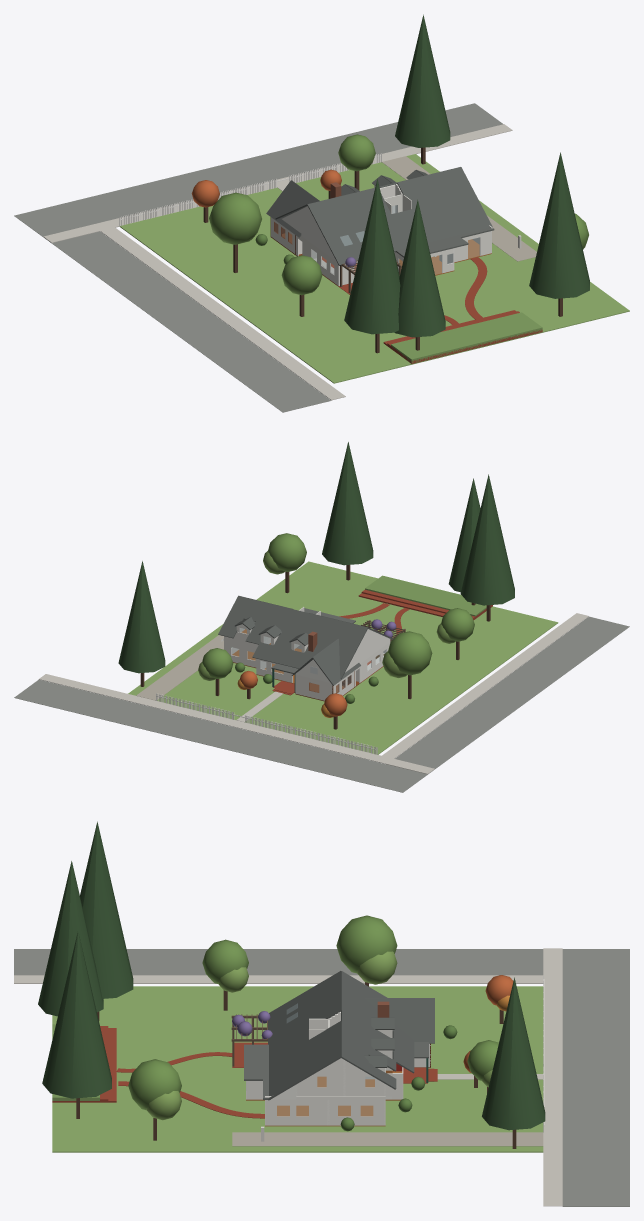
The model's file is 604-tennyson-ave.glb.
3 renders of one model, top to bottom at view 1: azimuth 30°, elevation 25°; view 2: azimuth 150°, elevation 25°; view 3: azimuth 270°, elevation 25°, orthographic. The views are drawn at different scales.
Visible parts, largest first — view 1: Lot, Garden, Roof, Webster St, Tennyson Ave, Sidewalk (×2), Terrace (×2), Ground floor, Driveway; view 2: Lot, Garden, Tennyson Ave, Roof, Webster St, Sidewalk (×2), Ground floor, Terrace, Driveway; view 3: Lot, Garden, Tennyson Ave, Roof, Webster St, Sidewalk (×2), Driveway, Ground floor, Upstairs, Terrace.
Boxes of the visible parts, x1,y1,x2,y2 form: Lot: (119,154,629,383); Garden: (119,14,589,337); Roof: (266,167,494,265); Webster St: (44,231,331,412); Tennyson Ave: (14,103,503,237); Sidewalk (×2): (43,124,512,400); Terrace (×2): (387,311,542,363); Ground floor: (270,217,491,285); Driveway: (382,156,536,261); Lot: (128,561,558,754); Garden: (118,442,514,754); Tennyson Ave: (14,679,427,792); Roof: (218,595,393,685); Webster St: (395,616,629,774); Sidewalk (×2): (39,613,588,774); Ground floor: (224,641,390,700); Terrace: (365,575,486,616); Driveway: (136,635,223,700); Lot: (52,986,543,1152); Garden: (38,821,545,1132); Tennyson Ave: (562,949,629,1206); Roof: (244,971,434,1100); Webster St: (14,949,543,975); Sidewalk (×2): (14,948,562,1206); Driveway: (232,1132,543,1146); Ground floor: (246,1043,434,1125); Upstairs: (265,1011,392,1099); Terrace: (52,1028,116,1102).
Bounding box in the file's own units: 57.91 × 21.11 × 58.52.
